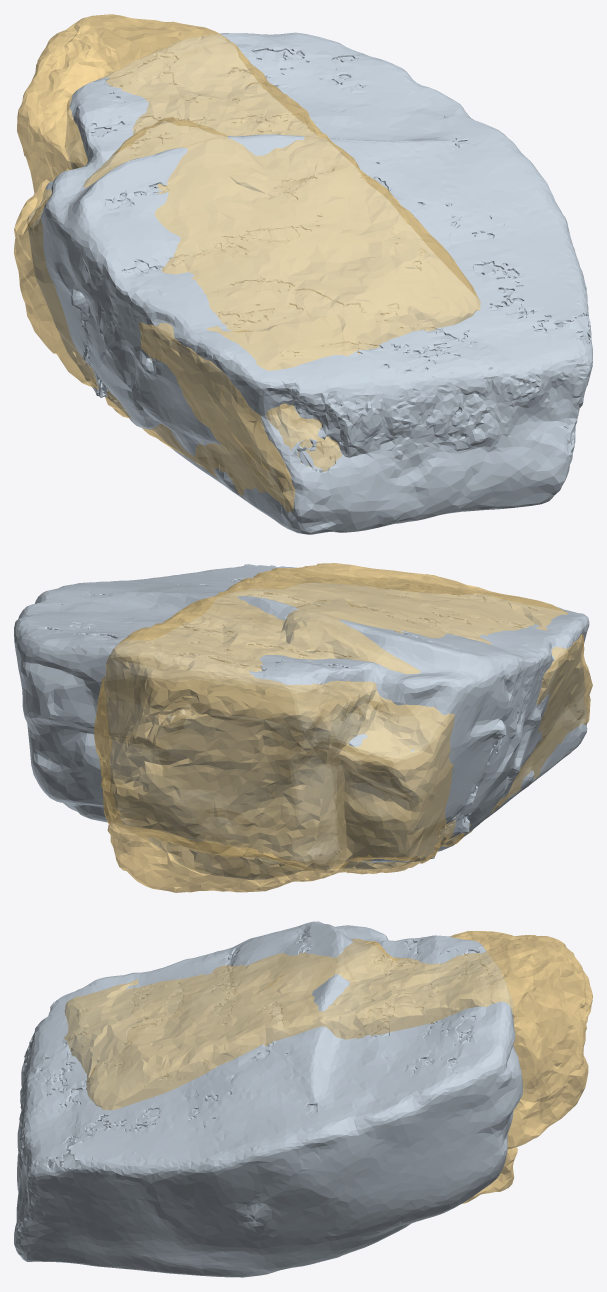
3 renders of one model, top to bottom at view 1: azimuth 30°, elevation 25°; view 2: azimuth 150°, elevation 25°; view 3: azimuth 270°, elevation 25°, orthographic. The views are drawn at different scales.
Visible parts, largest first — view 1: imagination, truth; view 2: imagination, truth; view 3: imagination, truth.
Boxes of the visible parts, x1,y1,x2,y2 form: imagination: (27,32,592,534); truth: (14,14,480,515); imagination: (14,564,589,879); truth: (94,563,592,892); imagination: (14,921,522,1277); truth: (64,931,592,1203).
Bounding box in the file's own units: 0.9934 × 0.6101 × 1.26.
